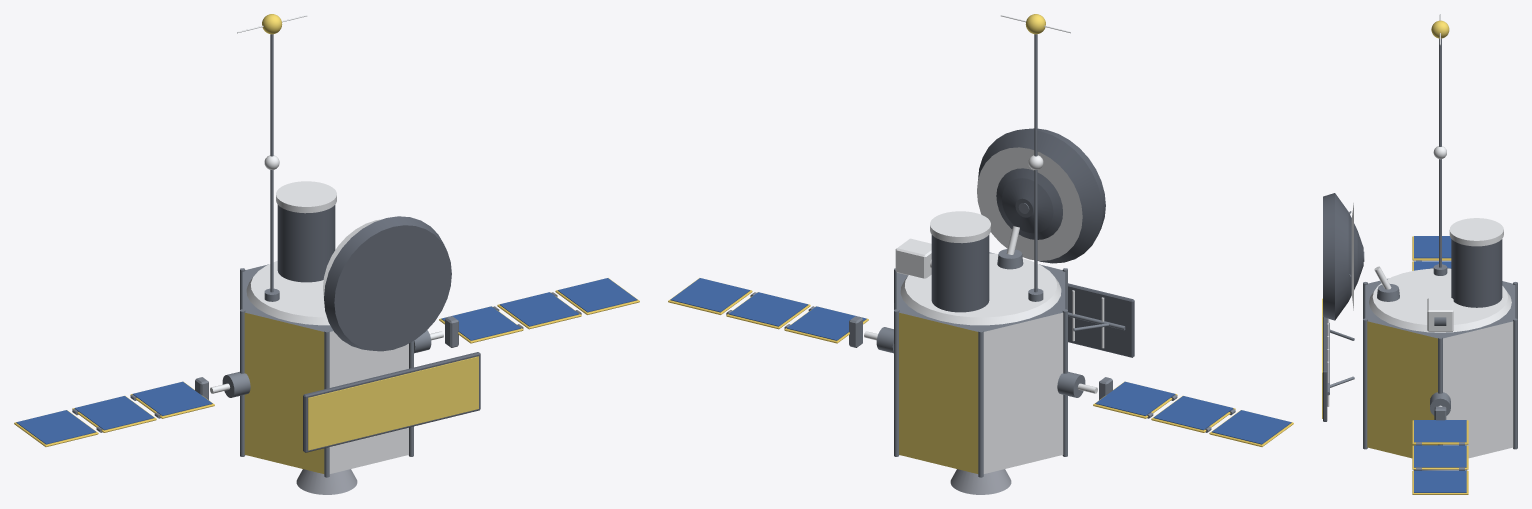
Rendered from modular_spacecraft_bus_hex.glb.
The picture shows the model from 3 angles, left to right: view 1: azimuth 30°, elevation 25°; view 2: azimuth 150°, elevation 25°; view 3: azimuth 270°, elevation 25°; orthographic projection. The views are drawn at different scales.
Parts seen in each view (by area): view 1: Spacecraft_GoldKaptonMLI, Spacecraft_CarbonCompositeStructure, Spacecraft_WhippleShieldAlloy, Spacecraft_SolarArrayCells, Spacecraft_AnodizedHardwareAndTruss, Spacecraft_SolarPanelSubstrate, Spacecraft_PropulsionNozzlesAndTanks; view 2: Spacecraft_WhippleShieldAlloy, Spacecraft_CarbonCompositeStructure, Spacecraft_GoldKaptonMLI, Spacecraft_SolarArrayCells, Spacecraft_AnodizedHardwareAndTruss, Spacecraft_SolarPanelSubstrate, Spacecraft_PropulsionNozzlesAndTanks; view 3: Spacecraft_WhippleShieldAlloy, Spacecraft_GoldKaptonMLI, Spacecraft_CarbonCompositeStructure, Spacecraft_AnodizedHardwareAndTruss, Spacecraft_SolarArrayCells, Spacecraft_SolarPanelSubstrate.
Boxes of the visible parts, bbox=[...] form: Spacecraft_GoldKaptonMLI: bbox=[244, 14, 478, 473]; Spacecraft_CarbonCompositeStructure: bbox=[277, 205, 480, 452]; Spacecraft_WhippleShieldAlloy: bbox=[210, 15, 443, 473]; Spacecraft_SolarArrayCells: bbox=[16, 278, 637, 444]; Spacecraft_AnodizedHardwareAndTruss: bbox=[72, 34, 581, 477]; Spacecraft_SolarPanelSubstrate: bbox=[14, 278, 639, 446]; Spacecraft_PropulsionNozzlesAndTanks: bbox=[296, 469, 357, 494]; Spacecraft_WhippleShieldAlloy: bbox=[864, 15, 1104, 473]; Spacecraft_CarbonCompositeStructure: bbox=[931, 128, 1134, 357]; Spacecraft_GoldKaptonMLI: bbox=[899, 14, 1045, 473]; Spacecraft_SolarArrayCells: bbox=[670, 278, 1291, 444]; Spacecraft_AnodizedHardwareAndTruss: bbox=[726, 34, 1235, 477]; Spacecraft_SolarPanelSubstrate: bbox=[668, 278, 1293, 446]; Spacecraft_PropulsionNozzlesAndTanks: bbox=[950, 469, 1011, 494]; Spacecraft_WhippleShieldAlloy: bbox=[1327, 14, 1513, 458]; Spacecraft_GoldKaptonMLI: bbox=[1322, 20, 1449, 458]; Spacecraft_CarbonCompositeStructure: bbox=[1323, 193, 1502, 421]; Spacecraft_AnodizedHardwareAndTruss: bbox=[1327, 38, 1517, 470]; Spacecraft_SolarArrayCells: bbox=[1414, 236, 1466, 492]; Spacecraft_SolarPanelSubstrate: bbox=[1412, 236, 1468, 494].
Size of the model in its own units: 8.09 by 6.25 by 2.6.
